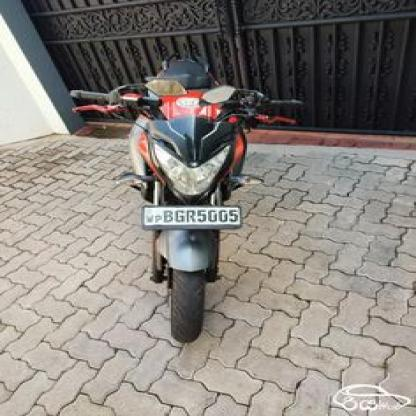bike front: (68, 47, 316, 352)
number plate: (140, 204, 244, 229)
